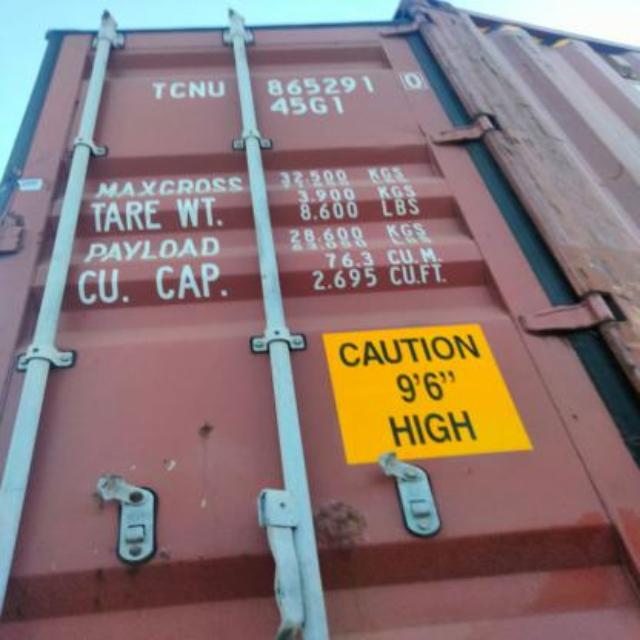0: (404, 68, 426, 90)
1: (356, 70, 374, 94)
2: (323, 71, 341, 97)
5: (303, 71, 321, 97)
6: (288, 73, 302, 97)
8: (264, 73, 286, 97)
9: (339, 70, 355, 98)
C: (171, 76, 187, 105)
N: (188, 74, 204, 104)
T: (148, 77, 164, 101)
U: (207, 78, 227, 102)
